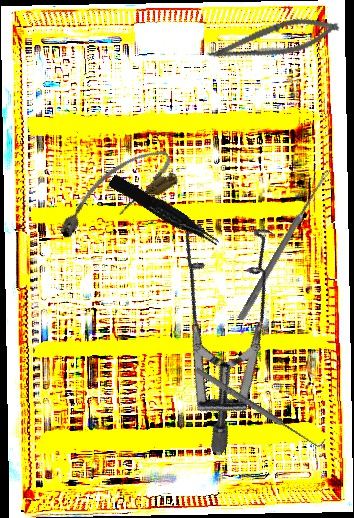Cannula: (46, 140, 183, 247)
Hook Surgical: (193, 361, 326, 452)
Micro Scissor: (203, 6, 343, 77)
Speculum: (86, 188, 343, 457)
Surgical Spoon: (237, 168, 331, 322)
Tissue Forceps: (107, 169, 222, 255)
